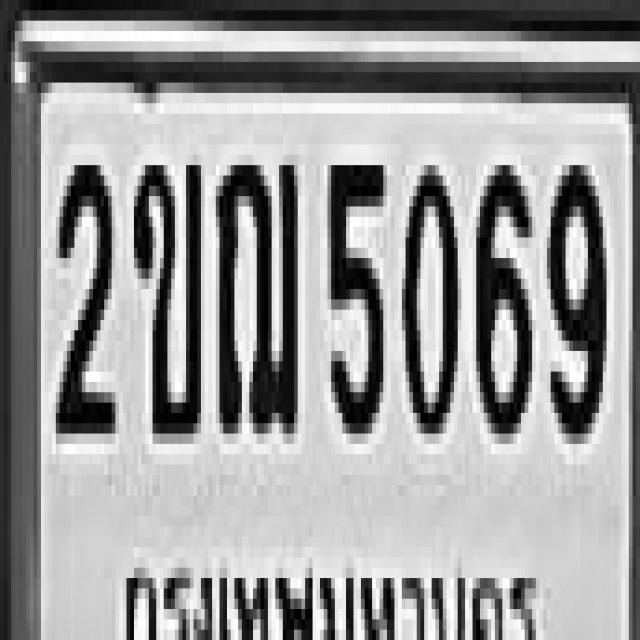0: (398, 150, 454, 418)
11KhorKhai: (130, 150, 197, 428)
2: (52, 155, 112, 423)
21ChorChoe: (212, 140, 294, 428)
5: (324, 155, 383, 423)
6: (472, 150, 528, 428)
9: (543, 150, 603, 428)
